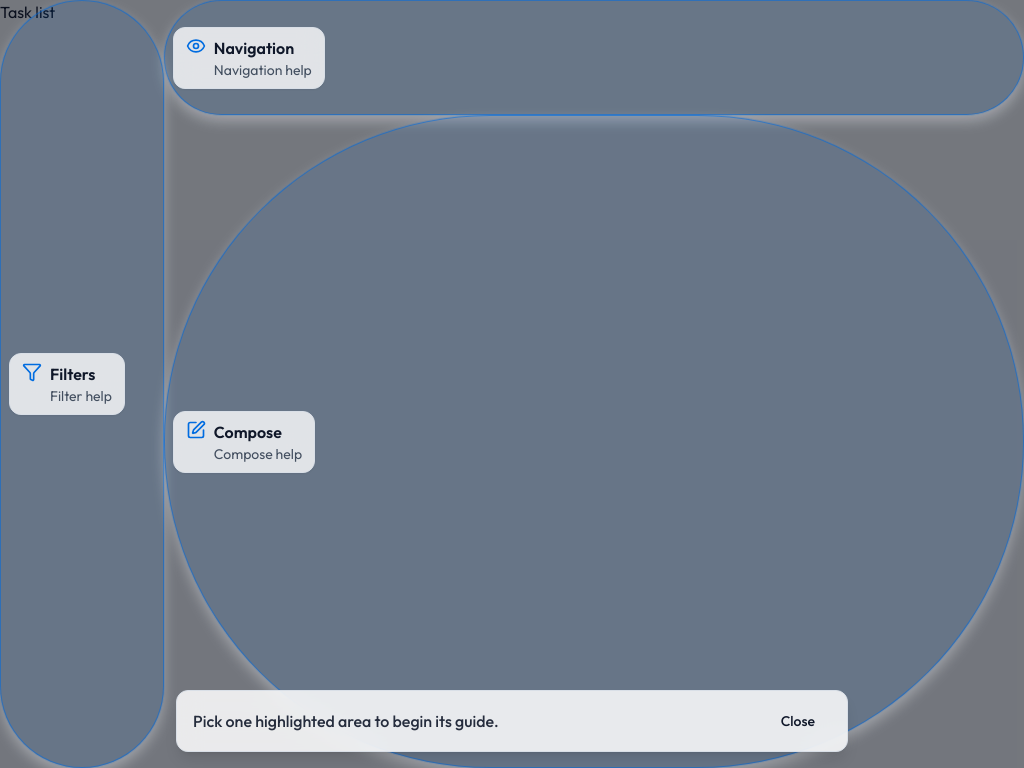
Scenario: OnboardingGuide breadcrumb transitions › keeps skip and next immediately available for manual guide starts
Click the button "Navigation Navigation help" at (249, 58), box top-left (164, 0), bottom-right (1023, 115)
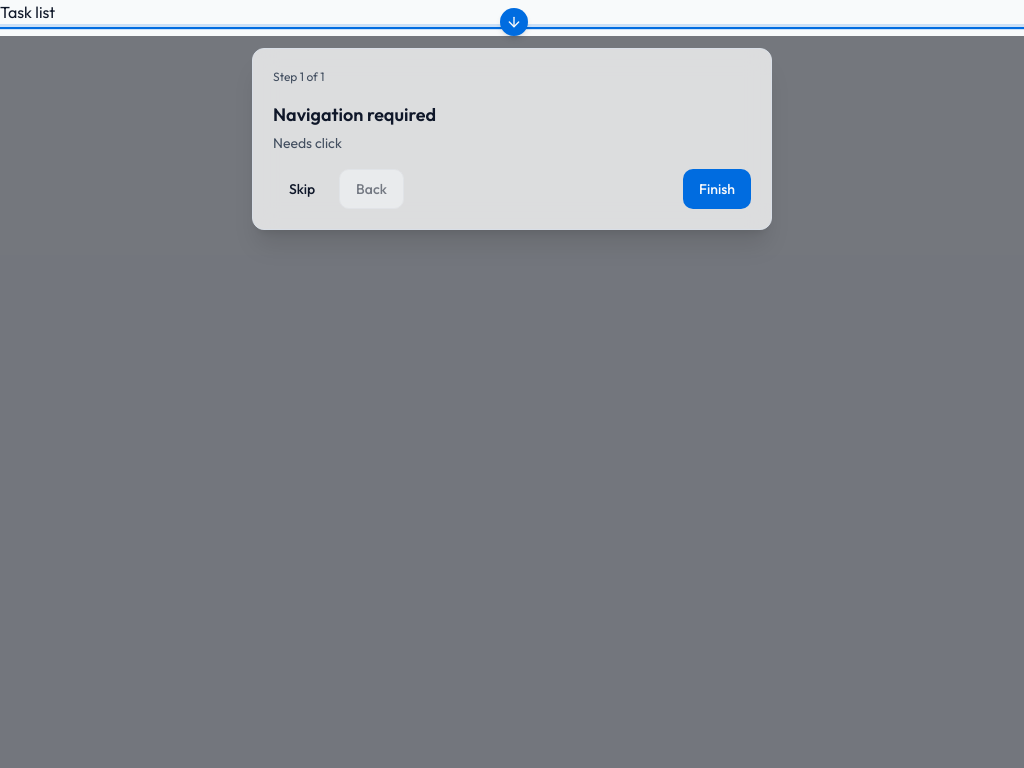
Expected: the button "Skip" is enabled, top-left (273, 169), bottom-right (331, 209)
Expected: the button "Finish" is enabled, top-left (683, 169), bottom-right (751, 209)
